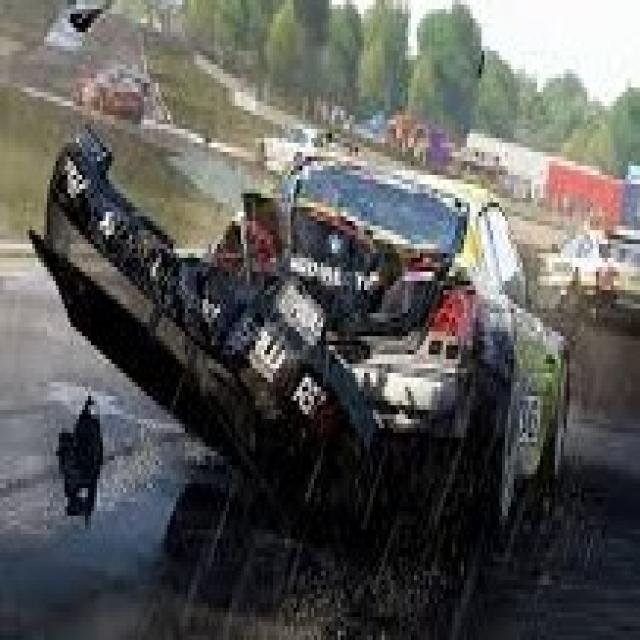severe: (29, 81, 557, 542)
